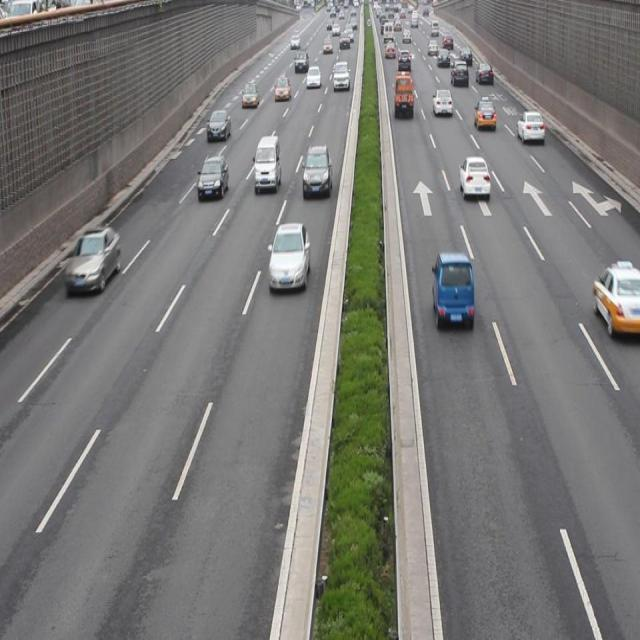car: (592, 257, 640, 339), (64, 226, 120, 293), (430, 252, 473, 330), (267, 224, 309, 292), (301, 147, 331, 196), (458, 156, 490, 200), (197, 155, 228, 198), (516, 108, 542, 143), (207, 110, 229, 140), (473, 99, 493, 129)
truck: (253, 135, 281, 193)
